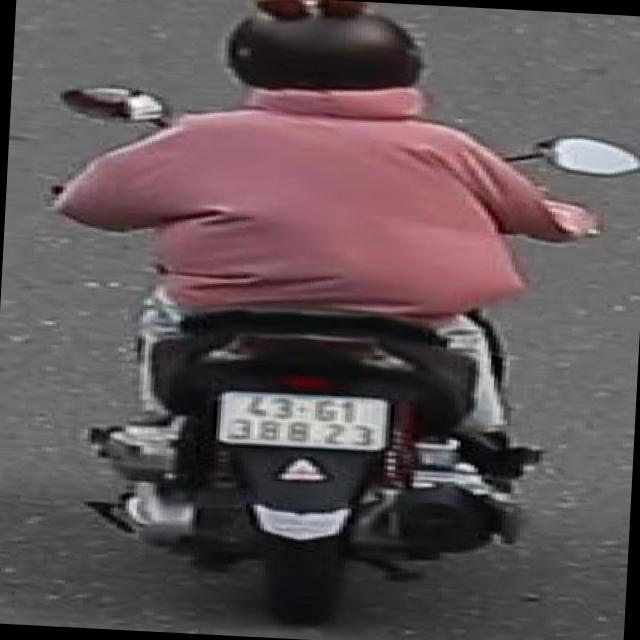LP: (212, 386, 398, 456)
helmet: (216, 2, 442, 134)
